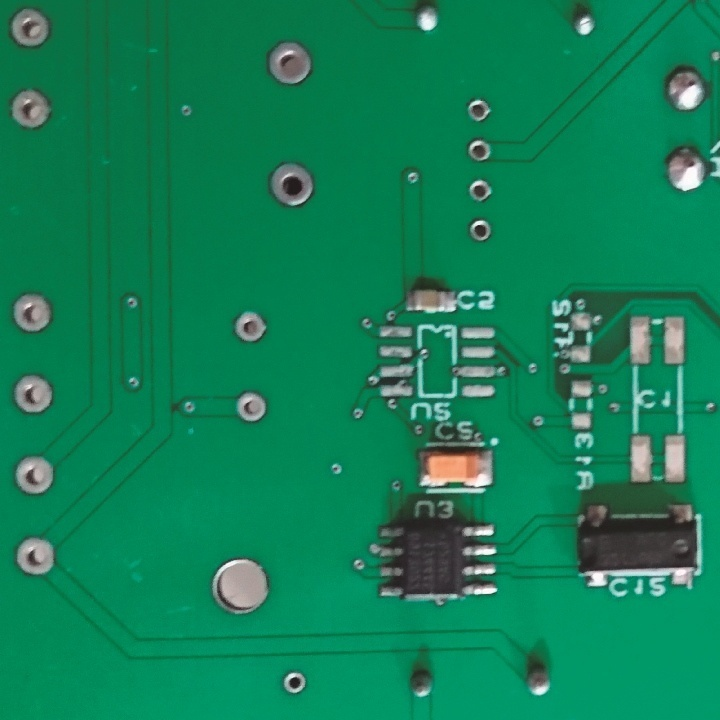F: (267, 161, 315, 209), (266, 40, 314, 87), (11, 536, 58, 578), (10, 290, 53, 335), (10, 373, 58, 413), (10, 89, 54, 132), (15, 453, 56, 497), (9, 11, 54, 50), (232, 308, 270, 345), (234, 390, 269, 425), (465, 214, 493, 246), (468, 177, 494, 202), (467, 97, 492, 123), (283, 670, 307, 696), (467, 139, 493, 163)
